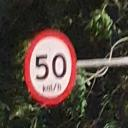speed_limit_50: (22, 29, 77, 106)
